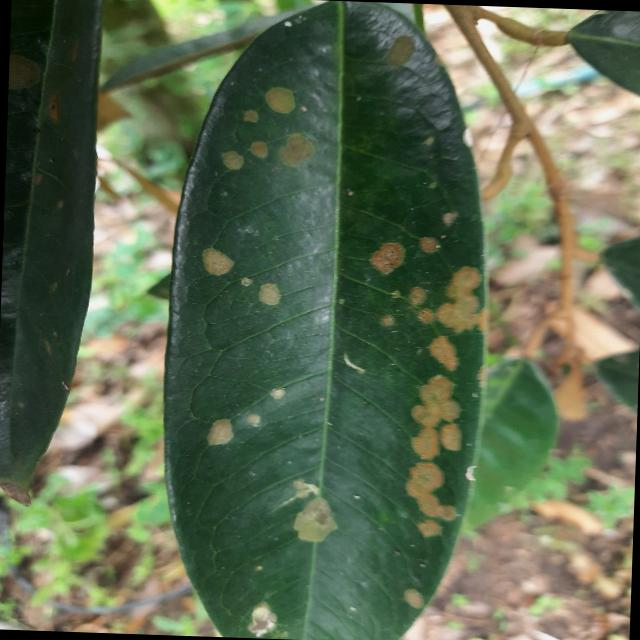Algal Leaf Spot: (146, 0, 509, 639)
